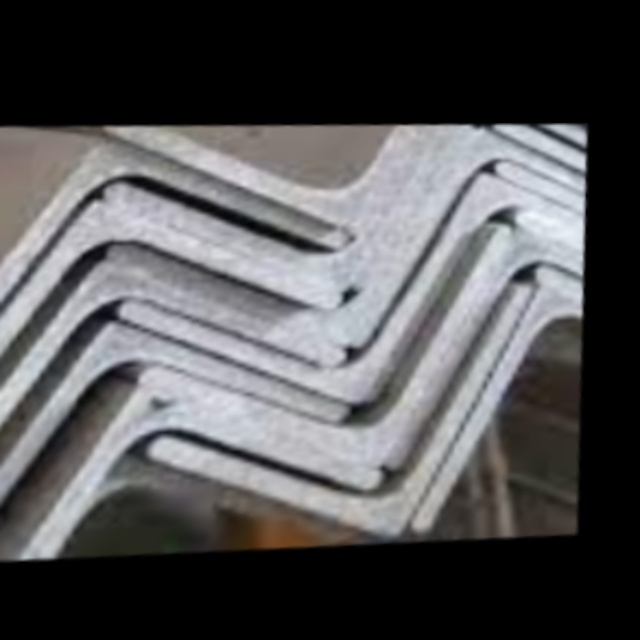Angle: (144, 274, 538, 560), (0, 252, 352, 566), (0, 195, 341, 501), (0, 139, 348, 419), (0, 315, 351, 585), (141, 227, 509, 478), (35, 383, 383, 578), (120, 223, 461, 420), (109, 198, 442, 350), (93, 105, 464, 237), (392, 244, 607, 465), (411, 290, 608, 528), (511, 125, 607, 295), (489, 119, 602, 246), (496, 119, 596, 201)
